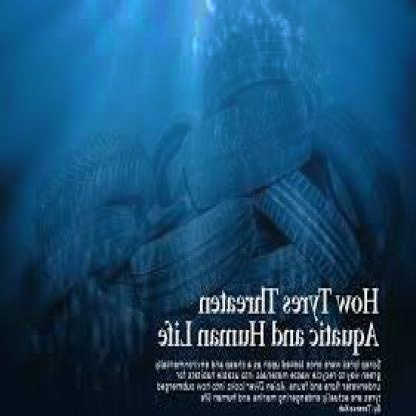tire: (194, 9, 340, 151), (34, 137, 167, 279), (241, 149, 360, 293), (317, 107, 416, 267), (134, 188, 252, 288)
